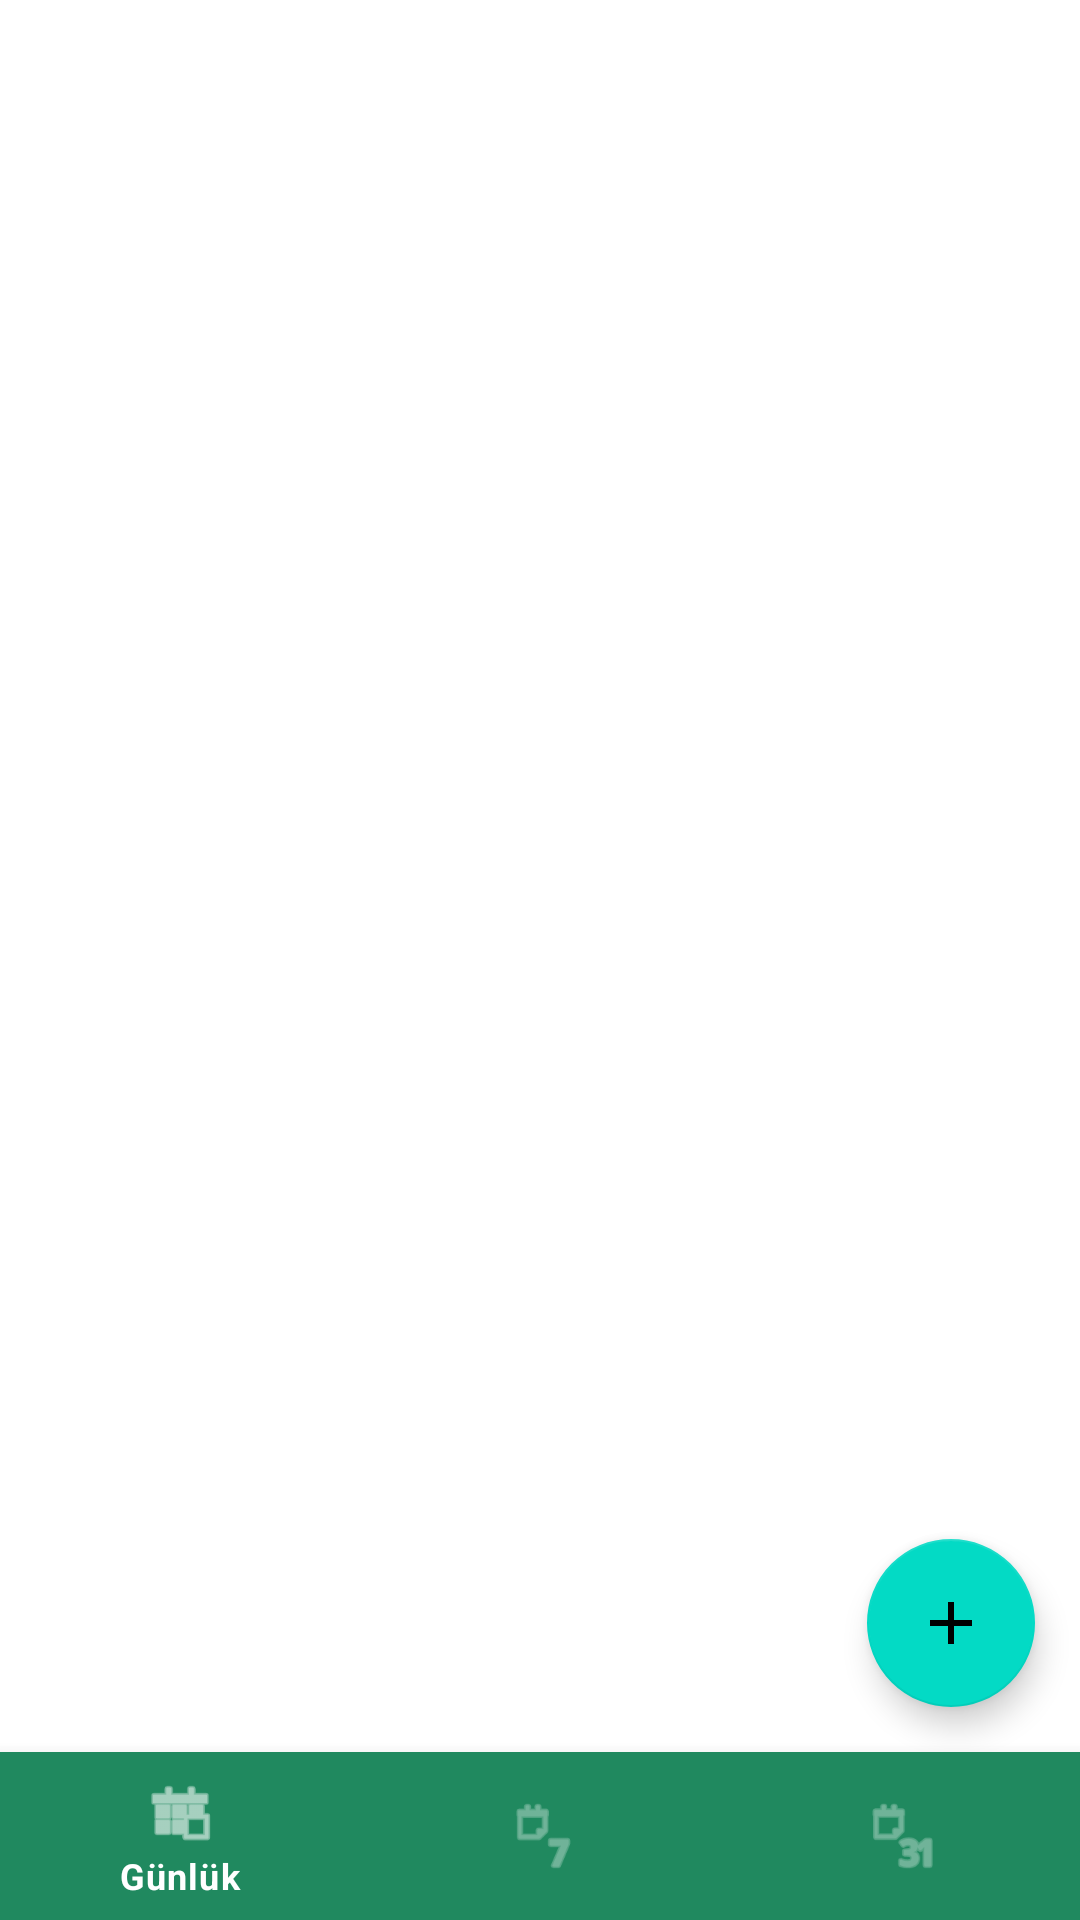

Where to tap for icons on this 1080 × 1920 app screen, as (x=x, y=y):
add: (x=951, y=1623)
